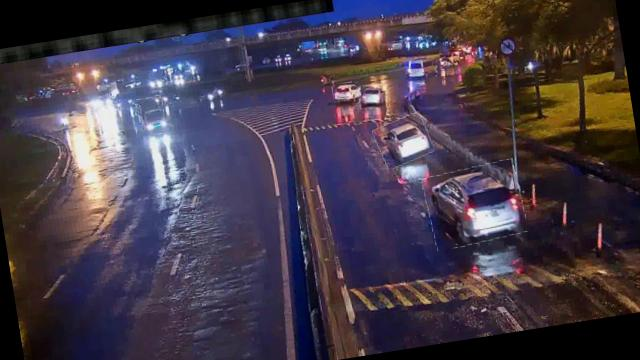Car: (422, 158, 528, 250), (374, 113, 434, 168), (358, 82, 391, 110), (332, 80, 361, 102)
Truck: (131, 94, 169, 138)
